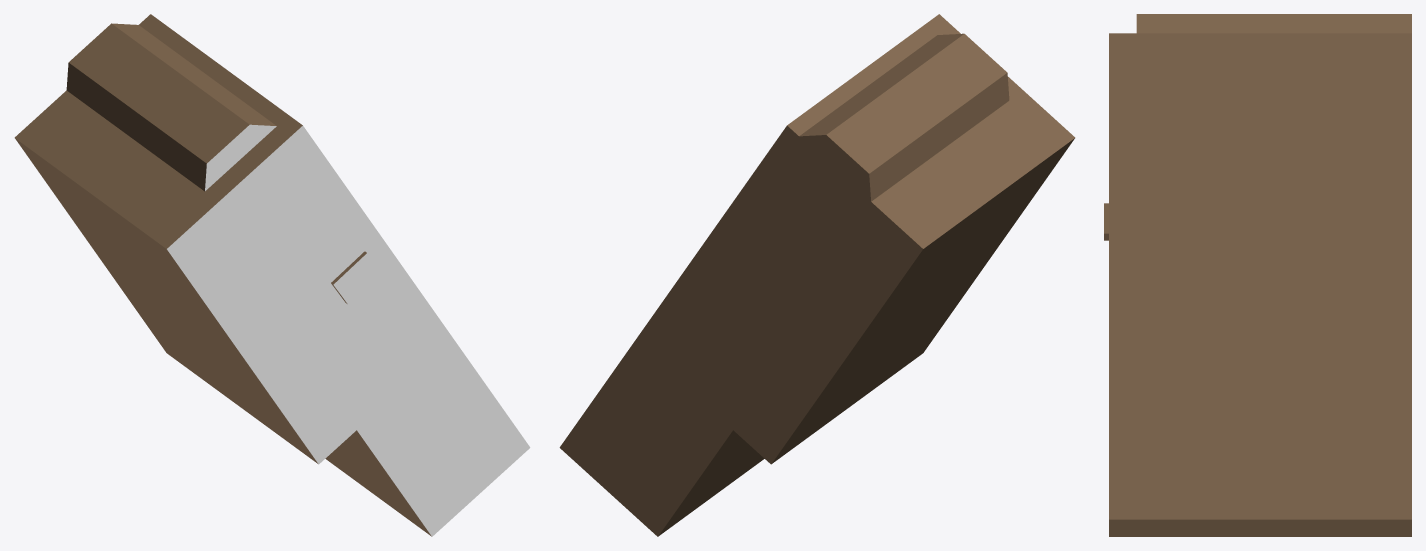
3 views of the same model, side by side, from view 1: azimuth 30°, elevation 25°; view 2: azimuth 150°, elevation 25°; view 3: azimuth 270°, elevation 25° (orthographic).
Visible parts, largest first — view 1: City_PC-01199; view 2: City_PC-01199; view 3: City_PC-01199.
Boxes of the visible parts, x1=… form: City_PC-01199: x1=14, y1=14, x2=530, y2=536; City_PC-01199: x1=559, y1=14, x2=1075, y2=536; City_PC-01199: x1=1104, y1=14, x2=1411, y2=536.
Size of the model in its own units: 1704 by 1984 by 1255.
